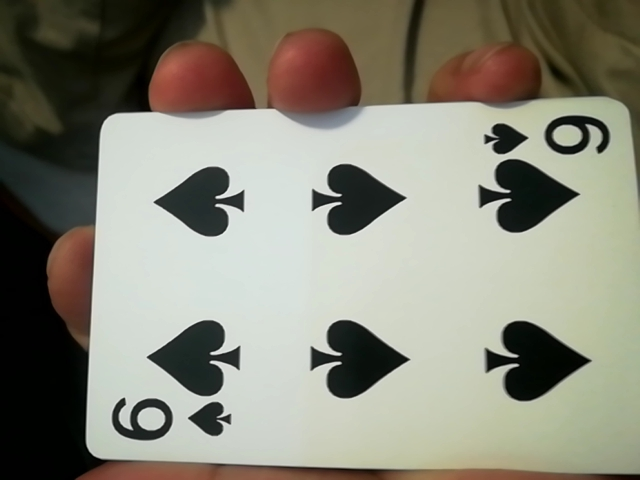ht 6: (67, 100, 634, 480)
